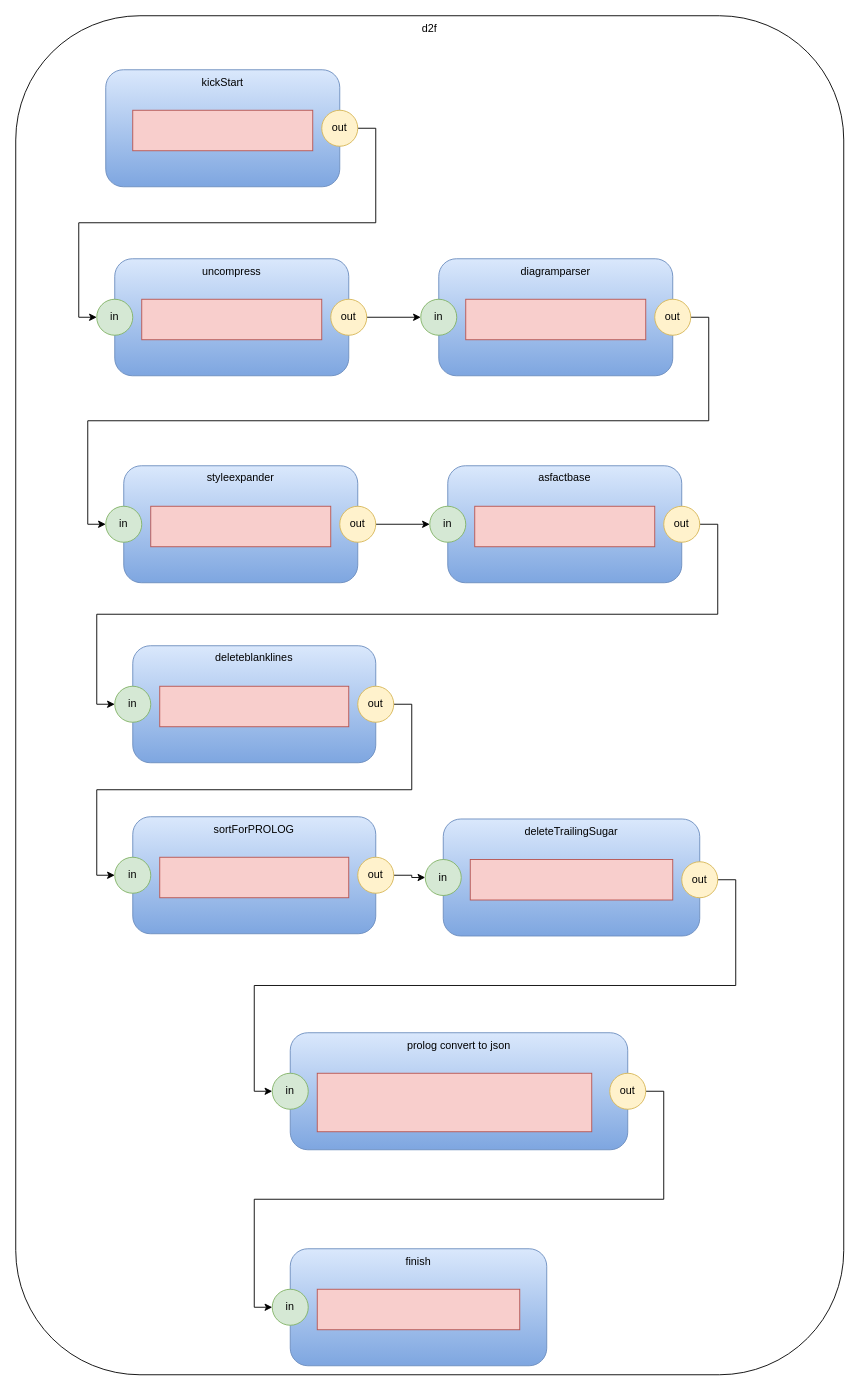
Some shapes in this 860 by 1391 pixel diagram are drawn without their labels. Each missing label, with the centre of its shape:
console.log (message.data);: point 418,1309
var rawbinary = sfreadfile (argv._[0]); me.send ("out", rawbinary, null);: point 222,130
var u = sfuncompress (message.data); me.send ("out", u, message);: point 231,319
var x = sfasfactbase (message.data); me.send ("out", x, message);: point 564,526
var x = sfdeleteblanklines (message.data); me.send ("out", x, message);: point 254,706
var x = sfdeleteTrailingSugar (message.data); me.send ("out", x, message);: point 571,879
var x = sfdiagramparser (message.data); me.send ("out", x, message);: point 555,319
var x = sfprolog2json (message.data); me.send ("out", x, message);: point 454,1102
var x = sfsortForPROLOG (message.data); me.send ("out", x, message);: point 254,877
var x = sfstyleexpander (message.data); me.send ("out", x, message);: point 240,526
